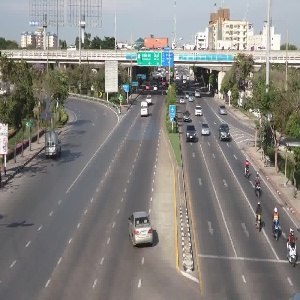car: (119, 210, 162, 252)
motorcycle: (279, 228, 300, 270), (271, 204, 283, 243), (253, 200, 267, 233), (240, 152, 253, 183), (252, 168, 264, 200)
